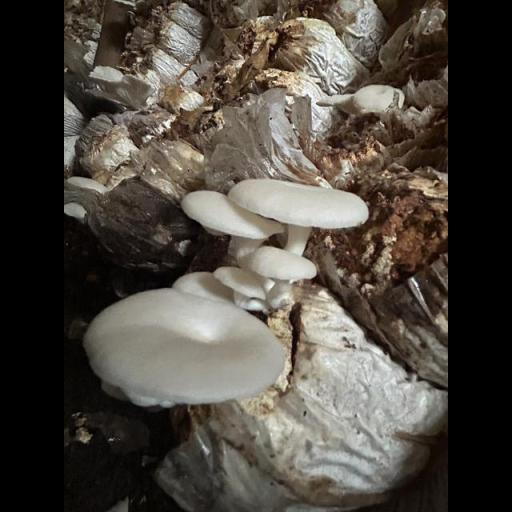White Oyster Mushroom: (84, 170, 369, 420)
